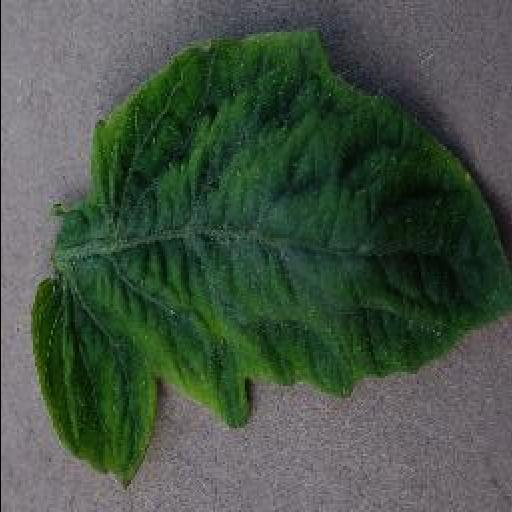disease_tomato: (32, 30, 512, 492)
